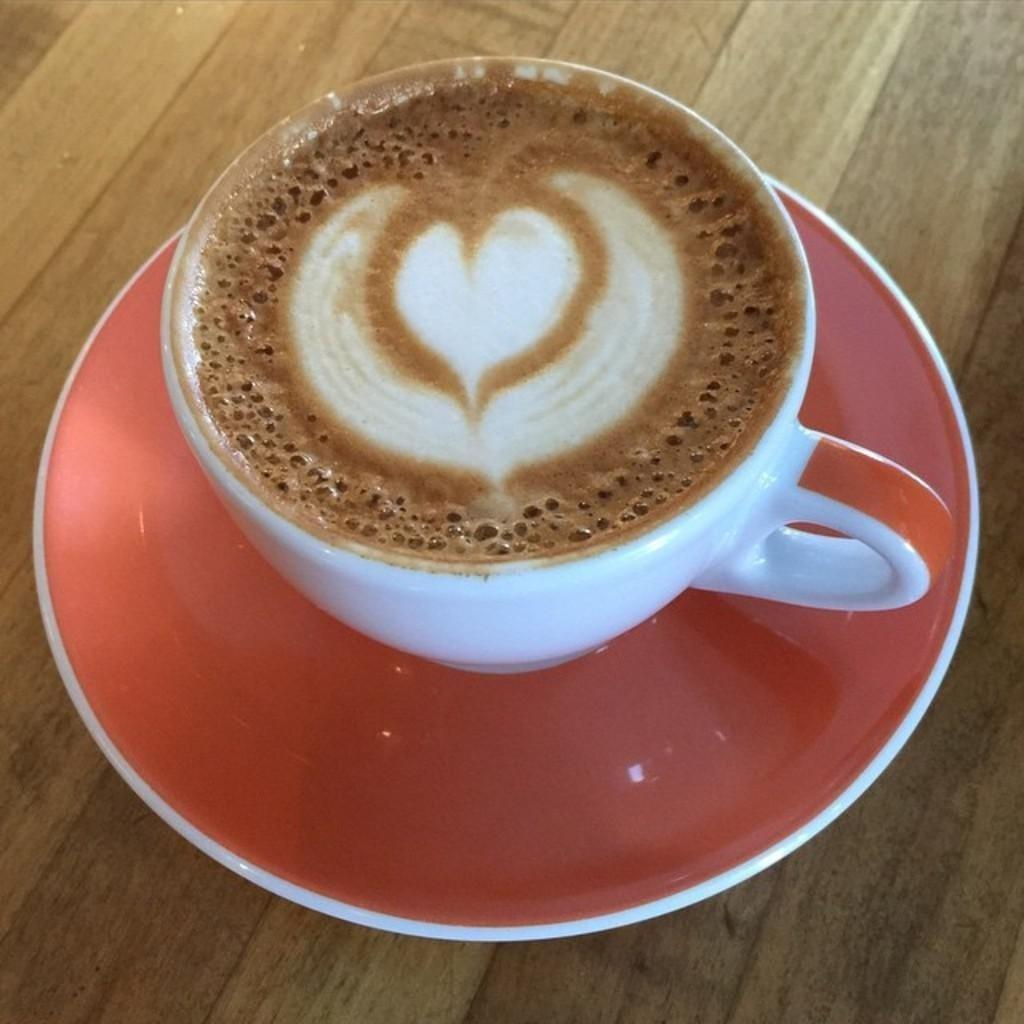cup-handle: (156, 53, 932, 677)
